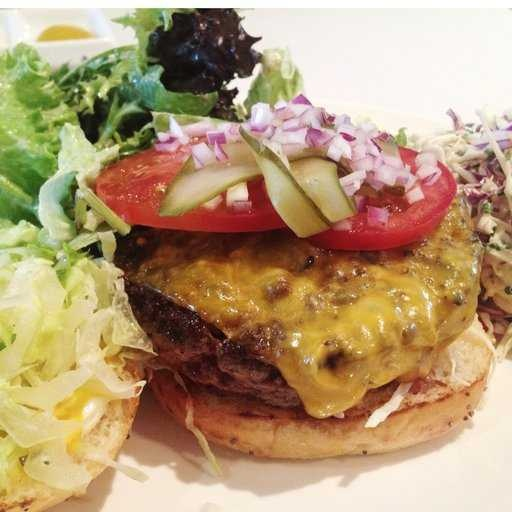hamburger: (81, 91, 486, 454)
